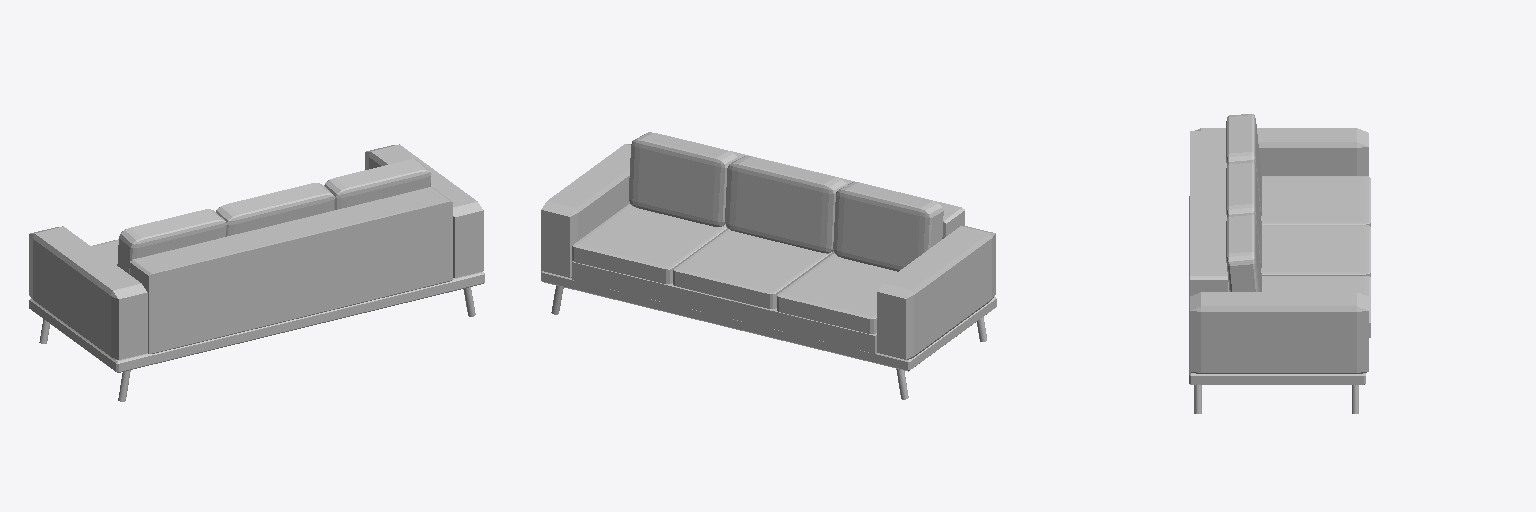
File: divano.obj
The picture shows the model from 3 angles: view 1: azimuth 30°, elevation 25°; view 2: azimuth 150°, elevation 25°; view 3: azimuth 270°, elevation 25°; orthographic projection.
Parts seen in each view (by area): view 1: Cube.004, Cube.001, Cube, Cube.003_Cube.005, Cube.009_Cube.014, Cube.008_Cube.013, Cube.007_Cube.012; view 2: Cube.001, Cube, Cube.009_Cube.014, Cube.007_Cube.012, Cube.008_Cube.013, Cube.005_Cube.011, Cube.002_Cube.009, Cube.003_Cube.005, Cube.006_Cube.010, Cube.004; view 3: Cube.003_Cube.005, Cube.004, Cube.005_Cube.011, Cube.006_Cube.010, Cube.001, Cube.007_Cube.012, Cube, Cube.009_Cube.014, Cube.002_Cube.009, Cube.008_Cube.013.
Boxes of the visible parts, box(x1,y1,x2,y2) form: Cube.004: box(130, 187, 452, 353); Cube.001: box(29, 226, 147, 359); Cube: box(29, 272, 484, 372); Cube.003_Cube.005: box(365, 144, 483, 277); Cube.009_Cube.014: box(216, 183, 334, 236); Cube.008_Cube.013: box(117, 209, 226, 274); Cube.007_Cube.012: box(324, 159, 430, 209); Cube.001: box(877, 226, 995, 359); Cube: box(541, 261, 996, 371); Cube.009_Cube.014: box(725, 156, 846, 253); Cube.007_Cube.012: box(629, 132, 737, 226); Cube.008_Cube.013: box(833, 182, 943, 271); Cube.005_Cube.011: box(673, 229, 833, 308); Cube.002_Cube.009: box(572, 203, 727, 283); Cube.003_Cube.005: box(541, 144, 630, 277); Cube.006_Cube.010: box(777, 253, 896, 333); Cube.004: box(666, 135, 964, 238); Cube.003_Cube.005: box(1190, 292, 1368, 373); Cube.004: box(1190, 131, 1227, 295); Cube.005_Cube.011: box(1261, 225, 1370, 276); Cube.006_Cube.010: box(1261, 176, 1370, 226); Cube.001: box(1195, 128, 1368, 175); Cube.007_Cube.012: box(1226, 213, 1261, 291); Cube: box(1189, 196, 1365, 384); Cube.009_Cube.014: box(1226, 161, 1261, 267); Cube.002_Cube.009: box(1228, 276, 1370, 337); Cube.008_Cube.013: box(1226, 114, 1261, 215).
Size of the model in its own units: 2 by 0.7519 by 0.8519.